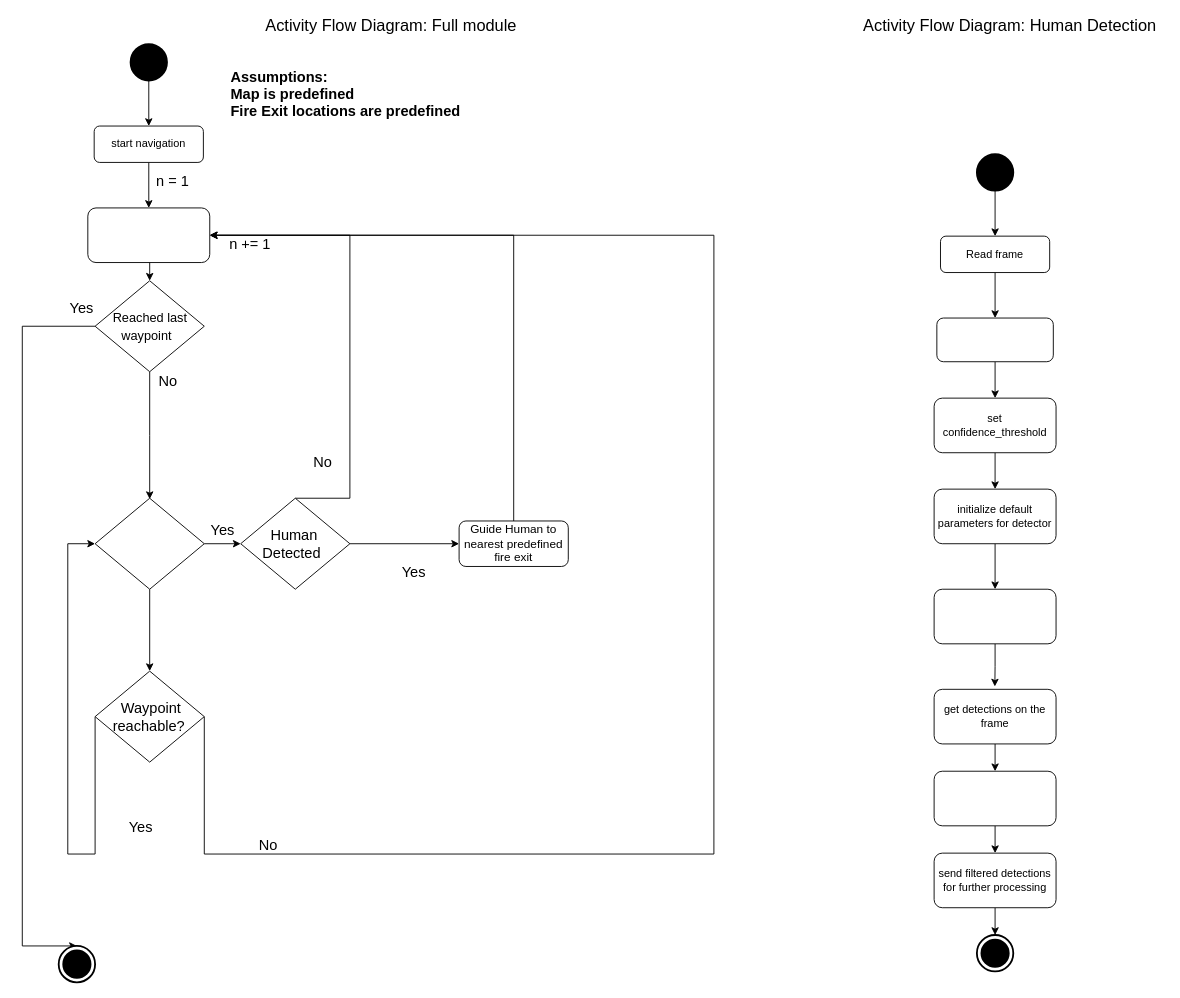
Image size: 1180x998. Some labels were removed from this diagram. Each missing label, with the centre of its shape:
"initialize pre-trained model yoloV4-tiny" goes at (x=994, y=616).
"Navigate to predefined nth waypoint and start Human Detection" goes at (x=148, y=235).
"remove noise by filtering detections with some threshold" goes at (x=994, y=798).
"Resize frame" goes at (x=994, y=339).
"Waypoint reached?" goes at (x=149, y=543).
